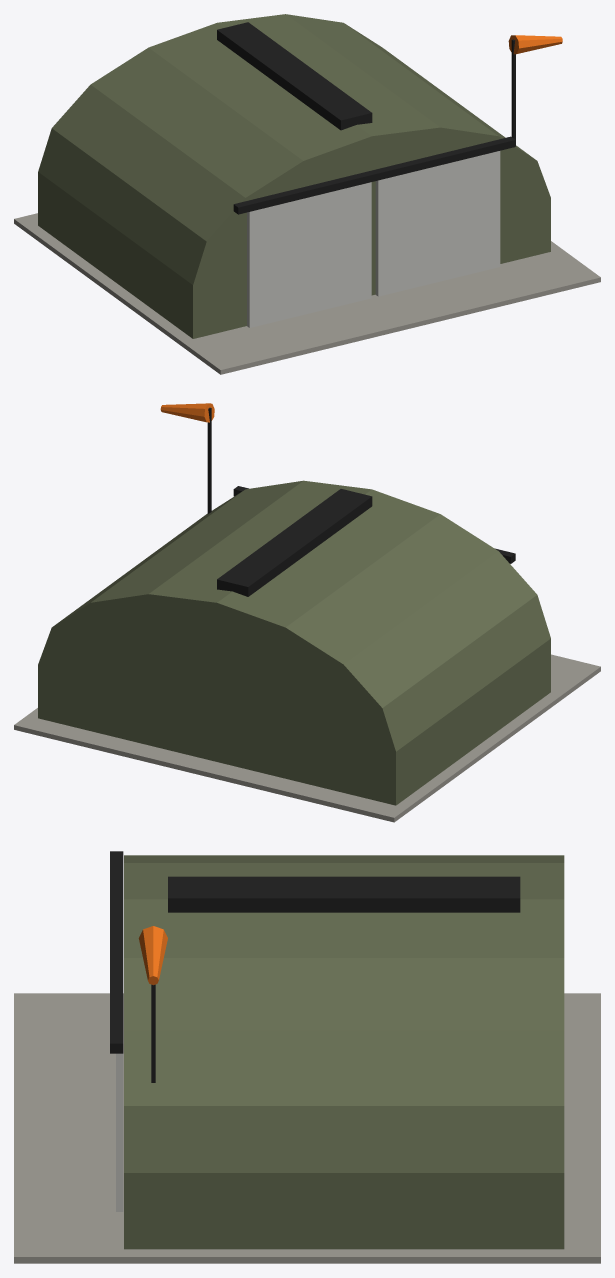
Rendered from hangar.glb.
3 renders of one model, top to bottom at view 1: azimuth 30°, elevation 25°; view 2: azimuth 150°, elevation 25°; view 3: azimuth 270°, elevation 25°, orthographic. The views are drawn at different scales.
Visible parts, largest first — view 1: Hangar; view 2: Hangar; view 3: Hangar.
Boxes of the visible parts, x1,y1,x2,y2 form: Hangar: (14,14,600,374); Hangar: (14,403,600,822); Hangar: (14,851,600,1263).
Size of the model in its own units: 17.42 by 9.4 by 16.
